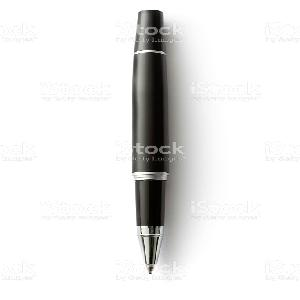pen: (129, 8, 171, 275)
